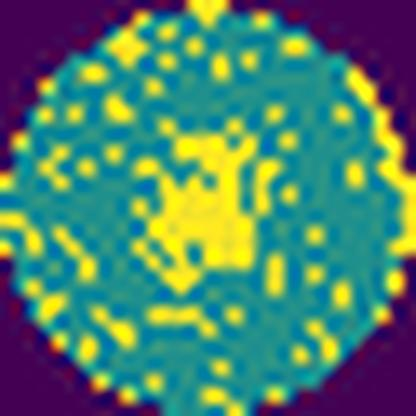Center: (132, 124, 266, 299)
